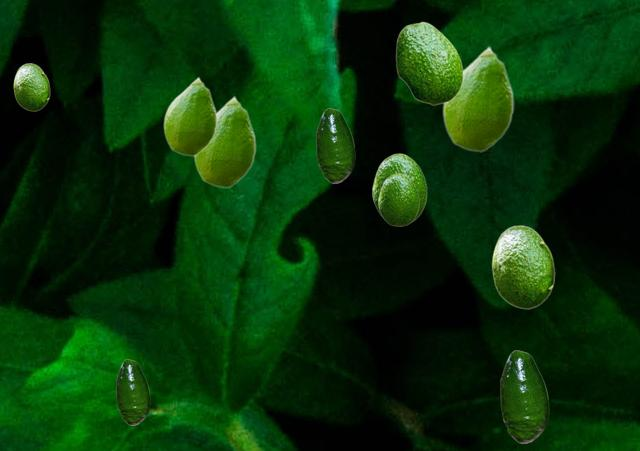avocado: (442, 45, 513, 151), (193, 95, 255, 187), (395, 21, 462, 104), (491, 225, 554, 308), (500, 350, 548, 442), (163, 76, 216, 155), (372, 153, 426, 222), (316, 108, 354, 182), (116, 359, 149, 424), (378, 173, 418, 225), (13, 63, 49, 110)
